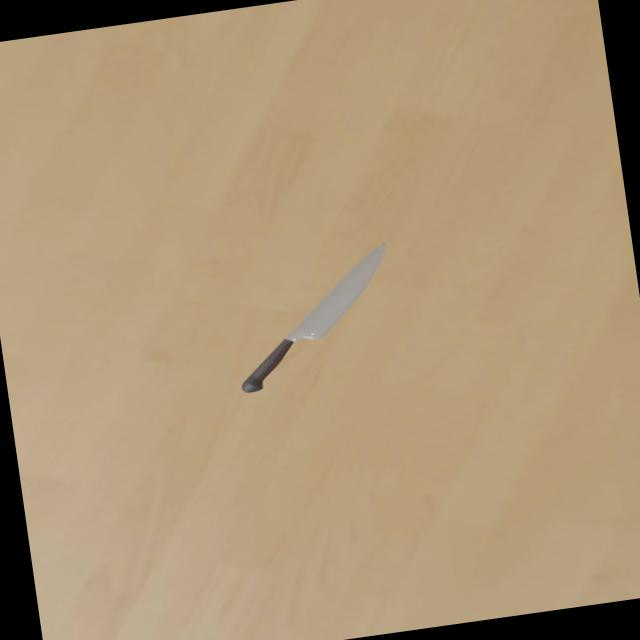knife: (235, 338, 301, 393)
